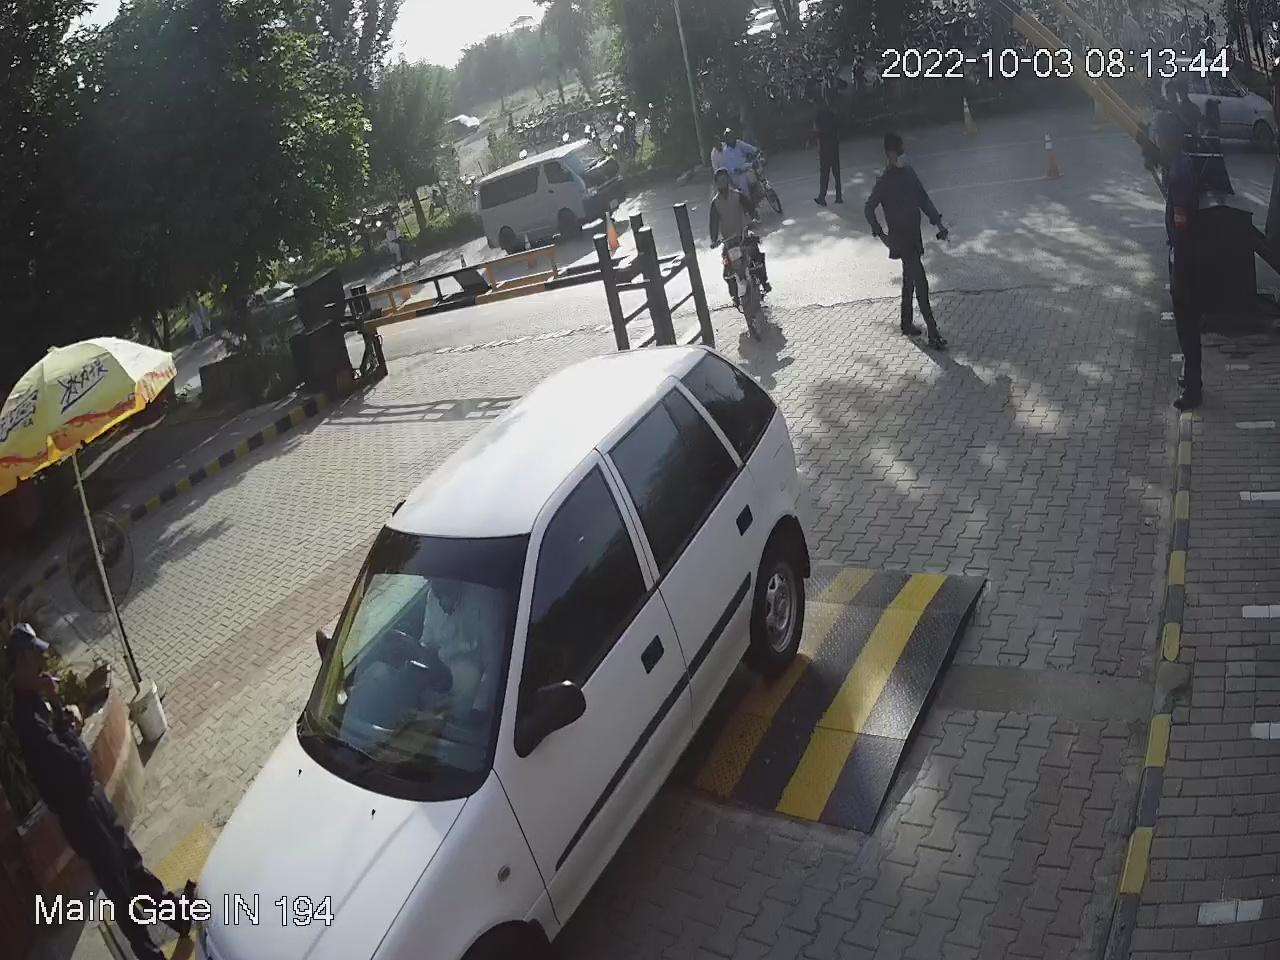windshield: (293, 510, 535, 808)
